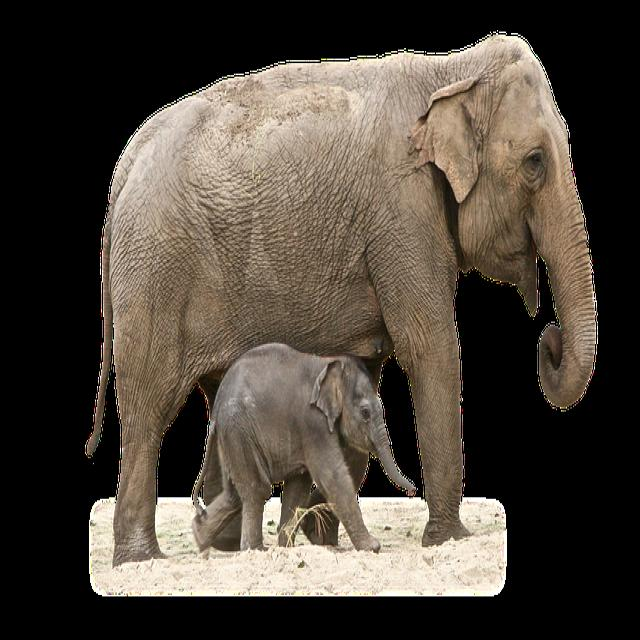elephant: (86, 36, 596, 564), (192, 344, 415, 552)
